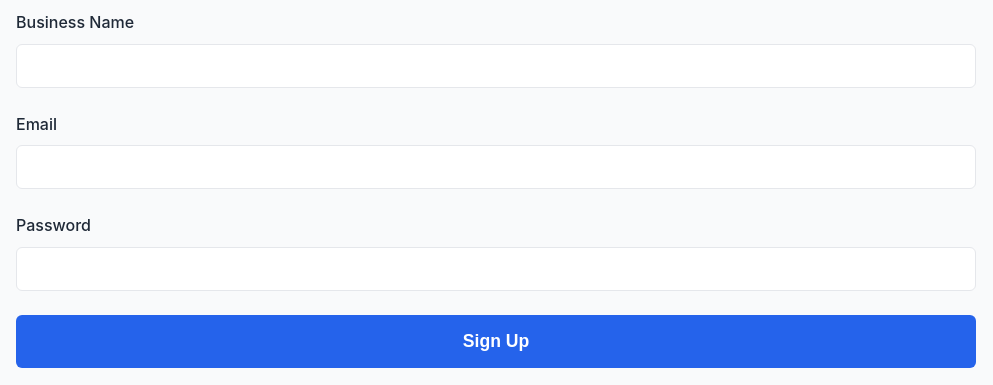
SignupForm › should disable submit button while submitting
The image size is (993, 385).
Type "Test Business" into the field labelled "Business Name".
click(496, 66); type("Test Business")  # box [16,44,976,88]
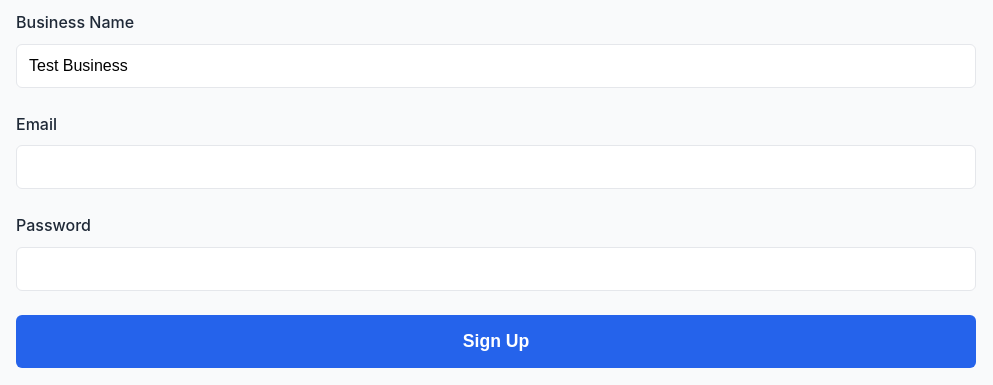
Type "test@example.com" into the field labelled "Email".
click(496, 167); type("test@example.com")  # box [16,145,976,189]
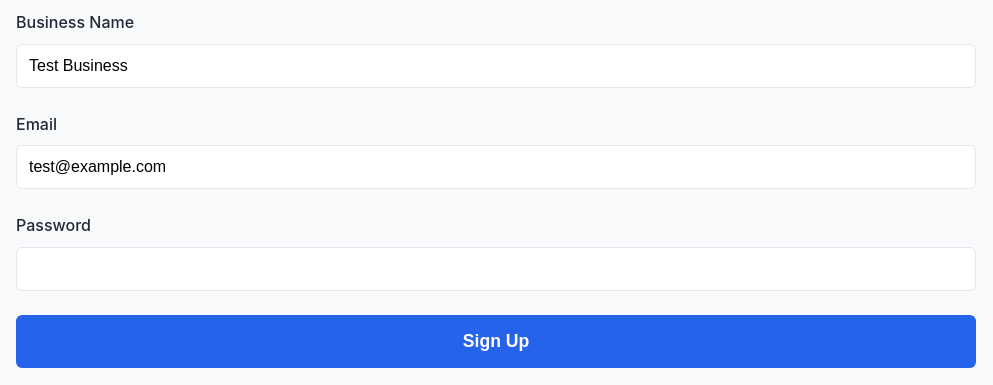
Type "password123" into the password field labelled "Password".
click(496, 269); type("password123")  # box [16,247,976,291]
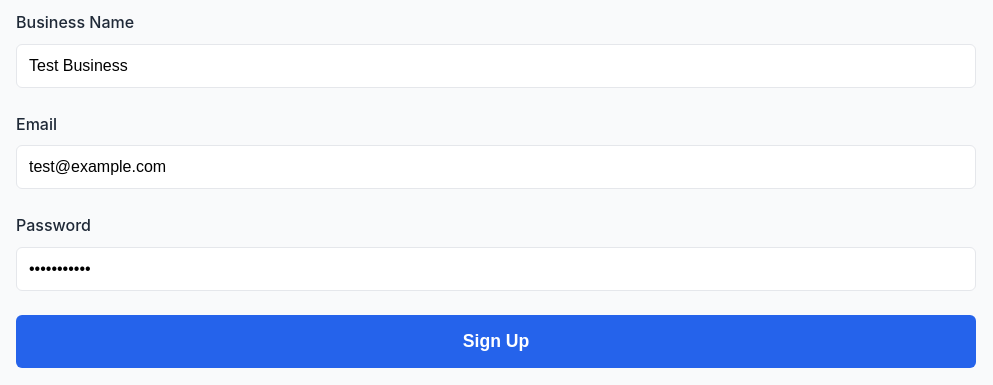
Click the button "Sign Up".
click(496, 341)  # box [16,315,976,368]
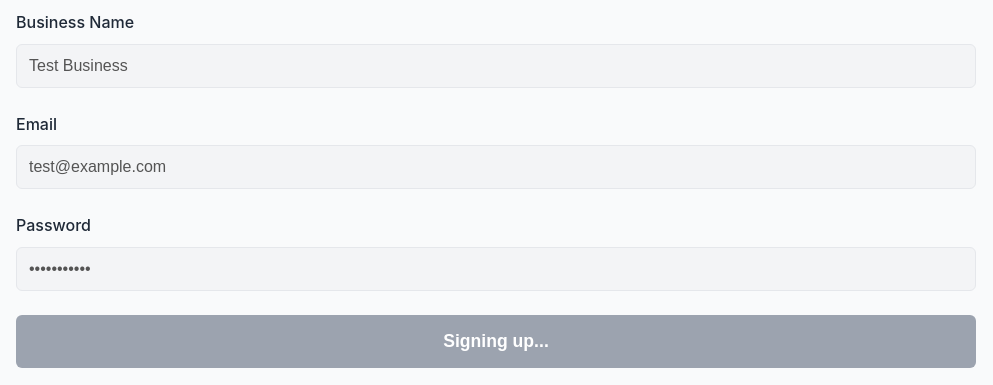
expect the button named "sign up" is disabled: met, box [16,315,976,368]
